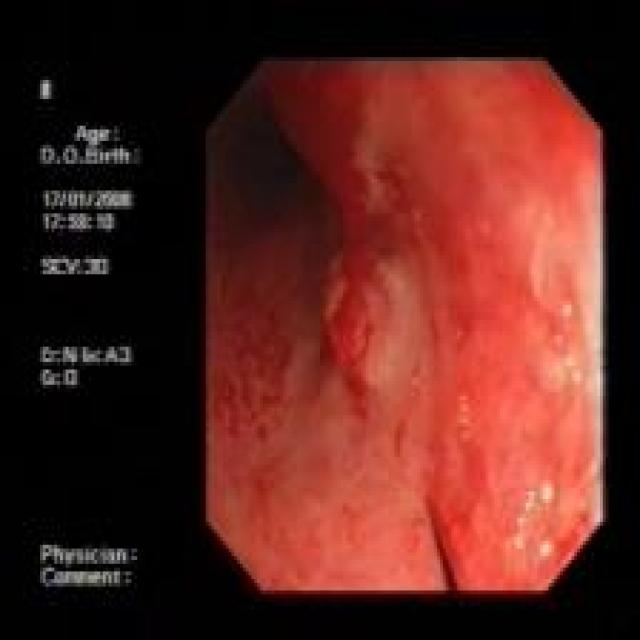blood: (336, 203, 391, 403), (218, 279, 285, 440)
color misalignment: (35, 74, 154, 600)
contrast: (221, 89, 303, 210)
instrument: (422, 496, 468, 590)
saturation: (525, 142, 602, 477)
specularity: (512, 490, 538, 549)
